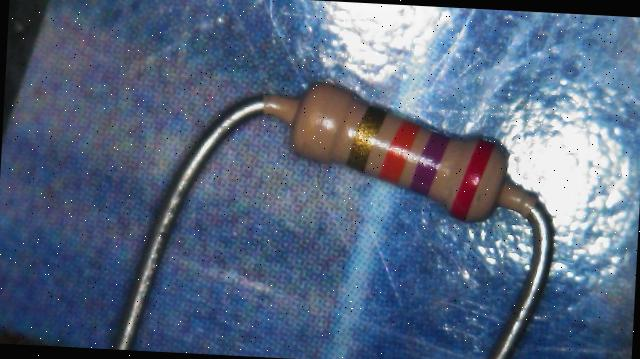gold: (346, 103, 387, 172)
orange: (378, 116, 420, 184)
red: (450, 138, 494, 221)
resistor: (261, 39, 555, 249)
violet: (411, 129, 448, 196)
